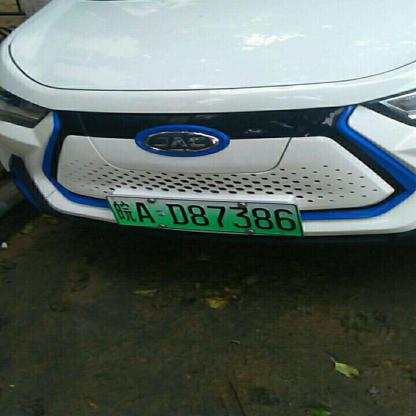lp: (106, 198, 302, 236)
